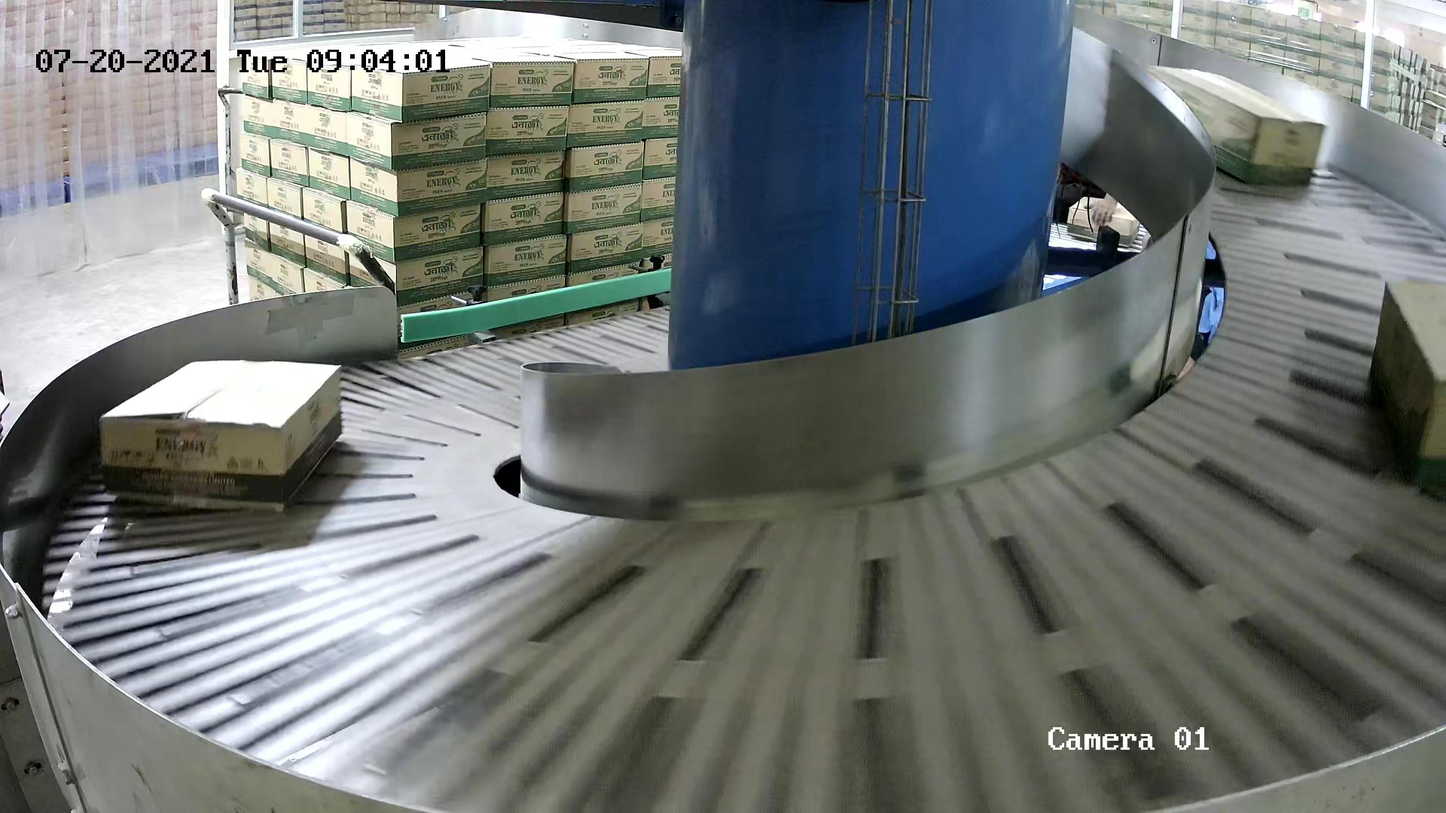Box: (98, 356, 345, 514), (1140, 61, 1329, 190), (1368, 275, 1446, 462)
